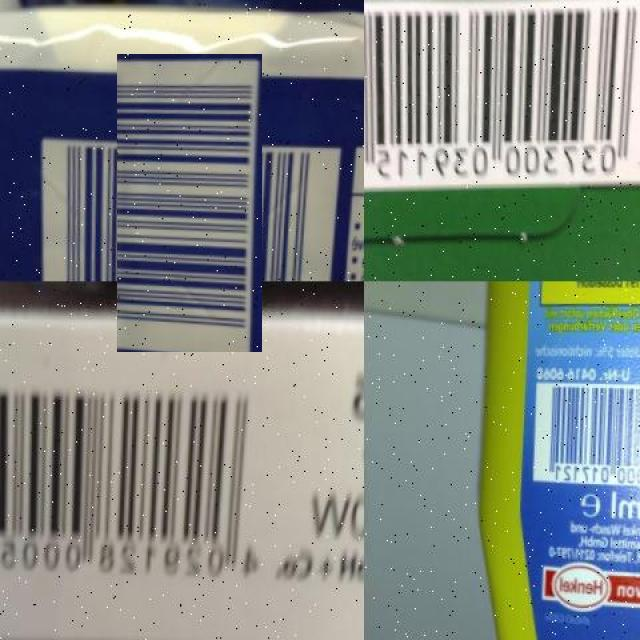Barcode: (0, 352, 280, 607), (364, 0, 640, 196), (76, 95, 303, 321), (534, 377, 640, 485)
